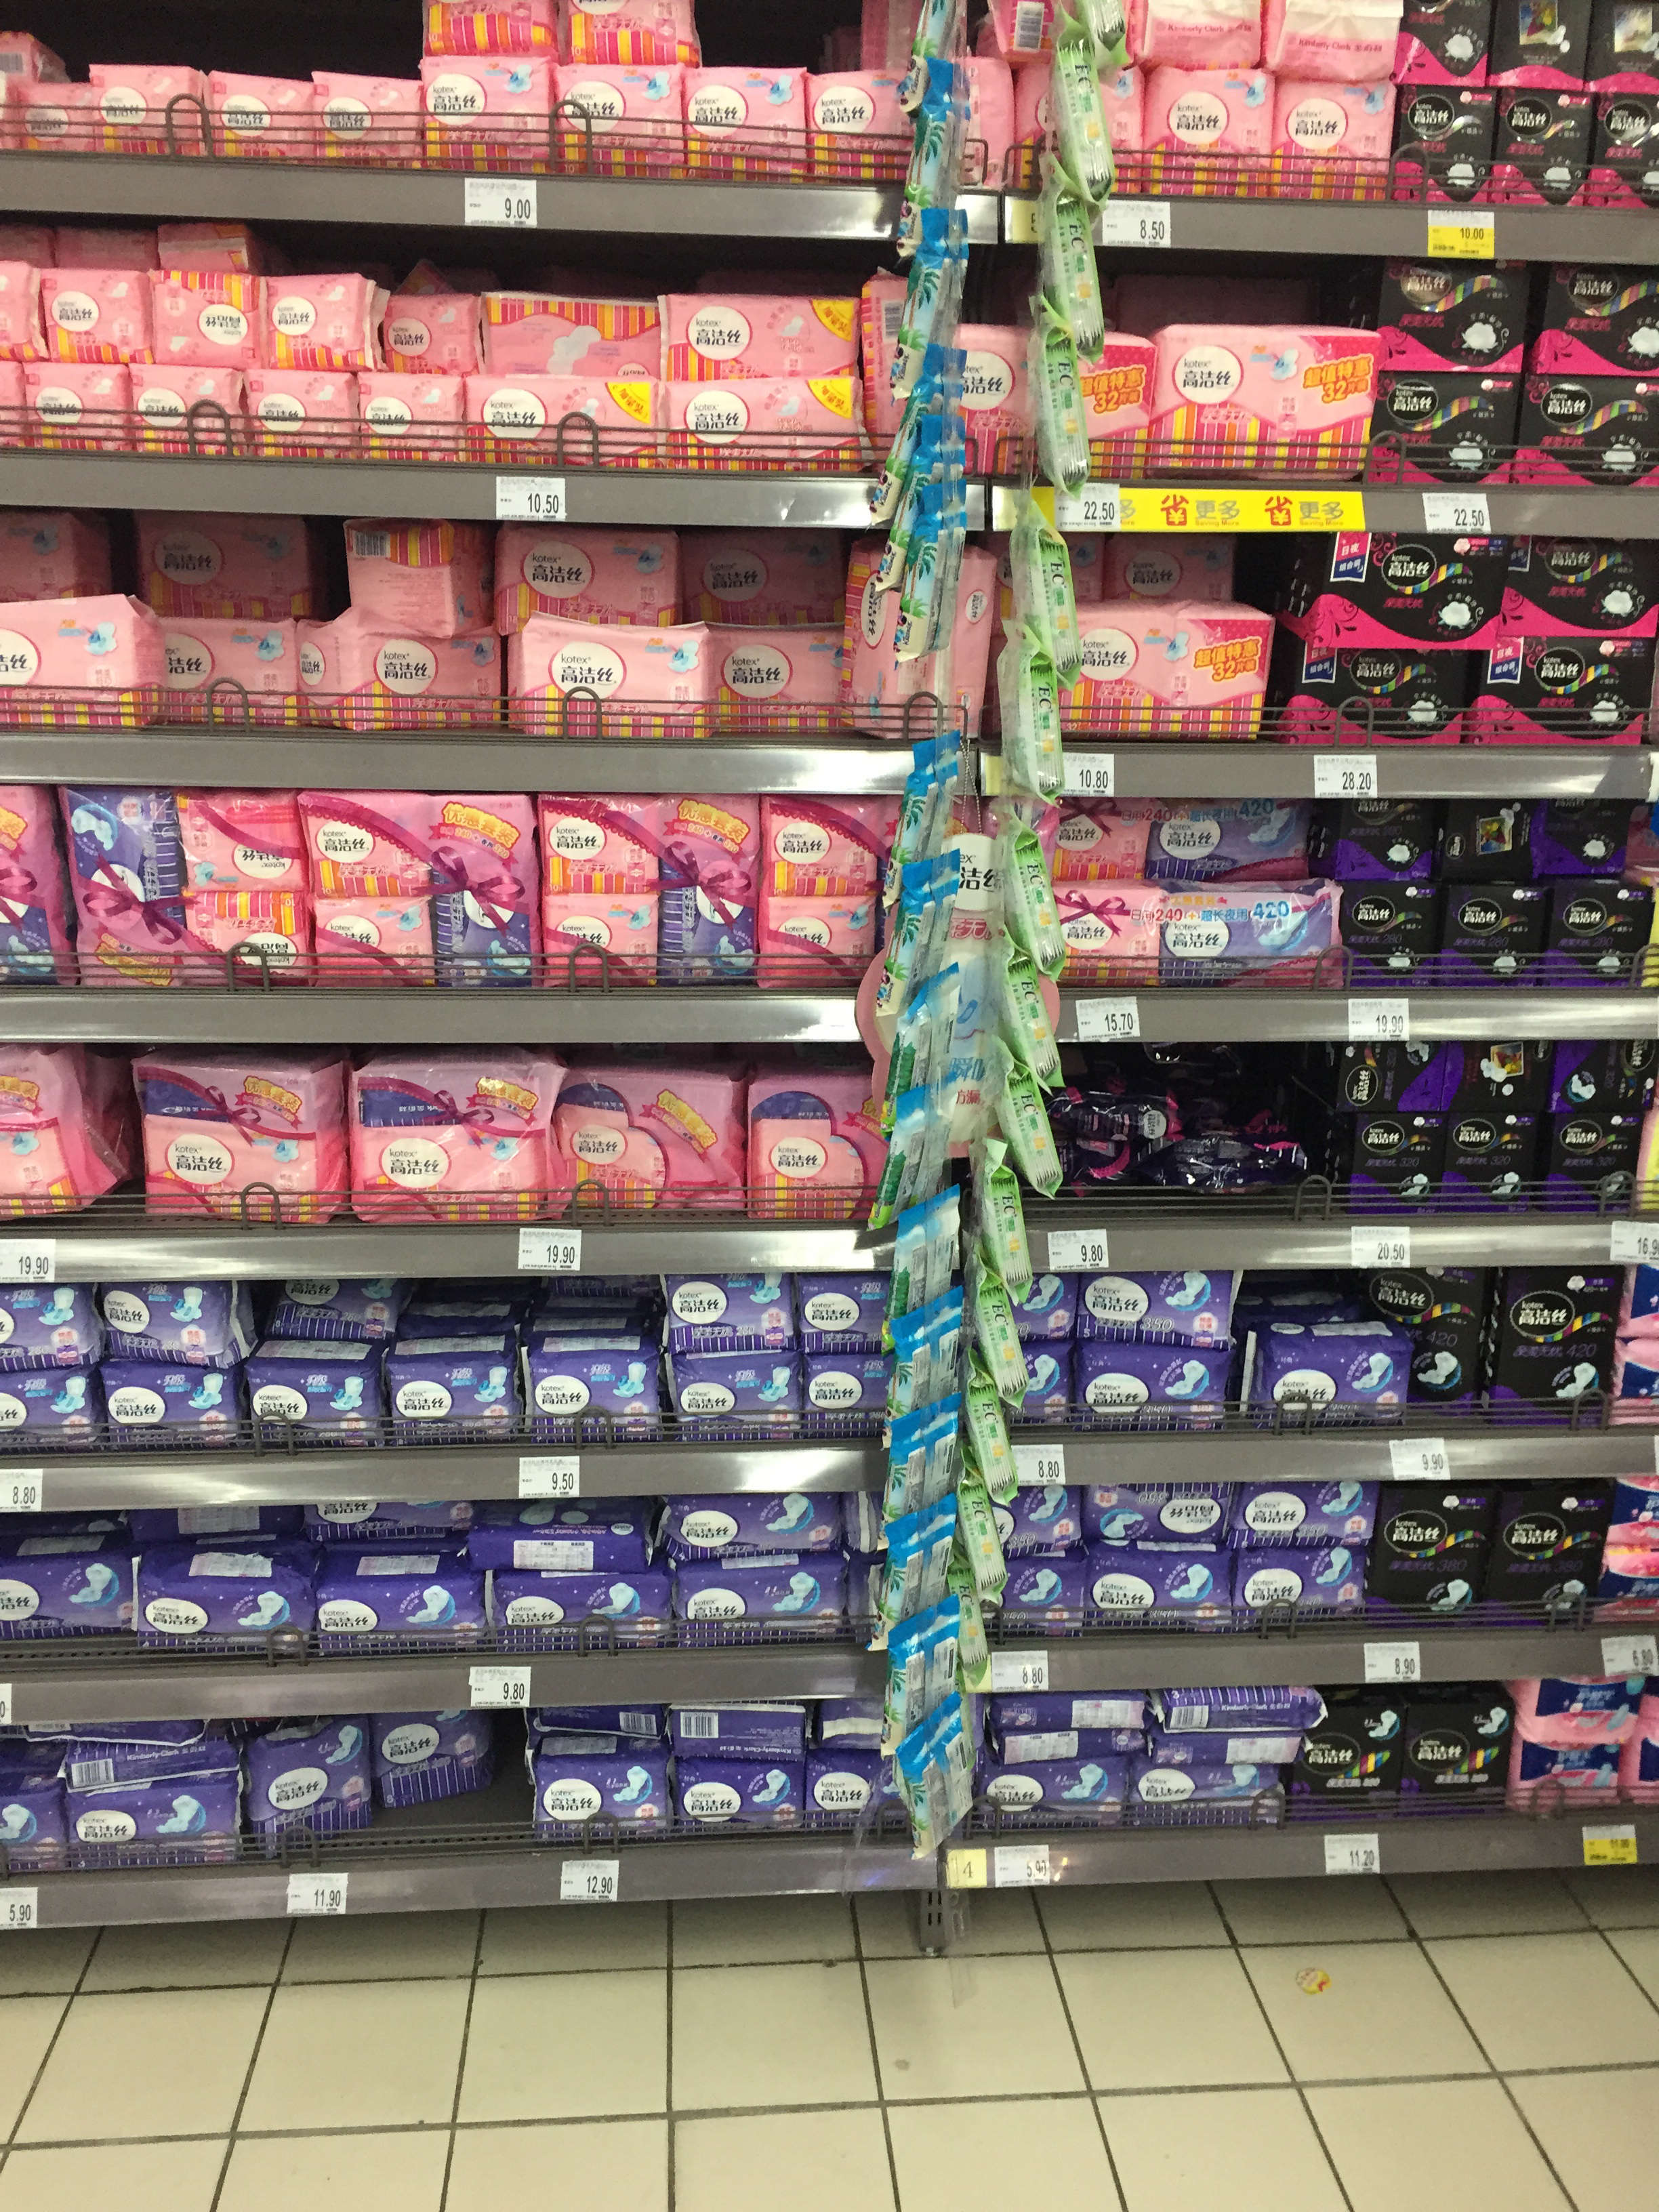product: (345, 1043, 559, 1233), (573, 1042, 744, 1223), (1162, 331, 1366, 482), (153, 1055, 333, 1214), (1080, 611, 1269, 735), (528, 622, 709, 740), (755, 1050, 875, 1223), (71, 796, 176, 979), (1317, 536, 1509, 636), (0, 1031, 98, 1224), (437, 791, 533, 988), (1499, 1264, 1615, 1421), (1246, 1320, 1405, 1435), (660, 799, 756, 989), (667, 387, 863, 479), (308, 639, 504, 732), (1291, 651, 1462, 752), (0, 611, 143, 726), (1478, 660, 1654, 752), (1169, 885, 1337, 981), (152, 510, 307, 613), (667, 293, 850, 380), (315, 1562, 476, 1660), (1368, 376, 1514, 482), (260, 1723, 364, 1871), (523, 1331, 660, 1442), (507, 521, 683, 608), (474, 380, 657, 462), (1392, 258, 1530, 366), (350, 516, 491, 620), (491, 286, 659, 373), (148, 1552, 312, 1639), (556, 64, 687, 172), (1495, 1477, 1603, 1608), (495, 1583, 681, 1658), (1378, 1491, 1486, 1620), (1155, 75, 1272, 193), (1459, 801, 1638, 878), (692, 528, 843, 618), (1408, 1684, 1507, 1820), (167, 617, 301, 716), (1521, 383, 1659, 479), (1127, 263, 1344, 324), (1514, 540, 1659, 631), (692, 70, 809, 179), (1283, 84, 1389, 204), (75, 1789, 249, 1862), (477, 1503, 650, 1576), (436, 59, 549, 169), (1086, 1258, 1234, 1341), (9, 1536, 132, 1635), (687, 1566, 836, 1646), (253, 1362, 382, 1453), (1297, 1709, 1399, 1822), (192, 890, 308, 989), (1084, 1353, 1234, 1430), (1544, 275, 1659, 374), (1152, 805, 1307, 876), (392, 1357, 512, 1447), (1164, 1130, 1324, 1198), (816, 64, 906, 183), (680, 1355, 798, 1446), (106, 1374, 237, 1456), (721, 634, 829, 732), (192, 792, 305, 885), (854, 662, 986, 740), (267, 272, 376, 366), (549, 801, 659, 894), (538, 1764, 667, 1843), (1091, 1554, 1232, 1625), (774, 794, 875, 894), (92, 57, 197, 153), (971, 324, 1035, 479), (680, 1263, 796, 1348), (113, 1291, 249, 1364), (1495, 91, 1582, 204), (1399, 98, 1493, 202), (681, 1493, 845, 1552), (1439, 1116, 1542, 1211), (274, 1275, 404, 1348), (315, 80, 425, 167), (1551, 892, 1649, 989), (40, 275, 145, 366), (380, 1712, 484, 1803), (1413, 1273, 1481, 1411), (1446, 890, 1541, 989), (322, 902, 429, 989), (1244, 1552, 1370, 1625), (990, 1771, 1127, 1838), (322, 801, 430, 885), (251, 373, 359, 456), (964, 38, 1021, 193), (767, 902, 875, 984), (552, 902, 655, 988), (383, 294, 490, 376), (1525, 1667, 1643, 1740), (676, 1764, 800, 1834), (157, 273, 256, 357), (1236, 1480, 1368, 1543), (1347, 892, 1429, 993), (206, 75, 307, 157), (138, 371, 240, 451), (1351, 1116, 1438, 1211), (1094, 341, 1154, 479), (0, 1280, 101, 1360), (1493, 7, 1589, 91), (1134, 1778, 1281, 1832), (1554, 1120, 1643, 1209), (26, 374, 129, 451), (1342, 798, 1438, 880), (0, 1379, 96, 1460), (568, 0, 692, 61), (1518, 1752, 1628, 1820), (1277, 2, 1392, 66), (1091, 1480, 1220, 1538), (366, 383, 455, 465), (0, 507, 78, 599), (1112, 545, 1244, 599), (1073, 897, 1157, 981), (1450, 1033, 1544, 1106), (1063, 1076, 1192, 1129), (1591, 108, 1657, 209), (1011, 655, 1056, 801), (1145, 9, 1270, 61), (310, 1494, 467, 1536), (915, 44, 950, 228), (146, 1500, 296, 1541), (1344, 1036, 1438, 1103), (678, 1703, 810, 1750), (1412, 3, 1488, 80), (803, 1362, 878, 1440), (1007, 1564, 1087, 1637), (1046, 320, 1079, 496), (526, 1700, 662, 1742), (997, 1686, 1145, 1724), (800, 1275, 875, 1350), (427, 0, 549, 45), (1169, 1684, 1290, 1730), (1600, 3, 1659, 92), (21, 73, 87, 152), (1556, 1043, 1642, 1101), (26, 1719, 202, 1747), (1037, 507, 1070, 655), (1058, 819, 1140, 878), (899, 260, 938, 380), (884, 394, 922, 514), (157, 219, 258, 265), (1018, 812, 1051, 949), (809, 1761, 875, 1827), (889, 895, 934, 989), (1021, 1477, 1080, 1548), (58, 1756, 230, 1780), (1072, 24, 1100, 172), (1060, 179, 1089, 315), (1159, 1740, 1291, 1770), (1082, 1130, 1148, 1190), (906, 1740, 941, 1851), (946, 1717, 978, 1834), (9, 1789, 52, 1871), (992, 1151, 1018, 1284), (880, 1026, 915, 1122), (889, 1637, 922, 1737), (997, 1742, 1141, 1764), (61, 230, 145, 268), (1026, 1348, 1068, 1425), (899, 761, 927, 873), (986, 1292, 1014, 1400), (1021, 1082, 1049, 1188), (884, 514, 920, 590), (819, 1698, 878, 1745), (880, 1134, 913, 1217), (920, 1521, 951, 1608), (965, 1505, 1000, 1583), (922, 1207, 951, 1292), (899, 1318, 925, 1413), (885, 1547, 917, 1623), (894, 1224, 922, 1310), (885, 1440, 920, 1508), (925, 1430, 955, 1501), (0, 219, 52, 260), (924, 526, 939, 658), (1021, 967, 1042, 1066), (925, 1632, 951, 1710), (981, 1407, 1004, 1493), (936, 1312, 955, 1400), (957, 1604, 979, 1679)
